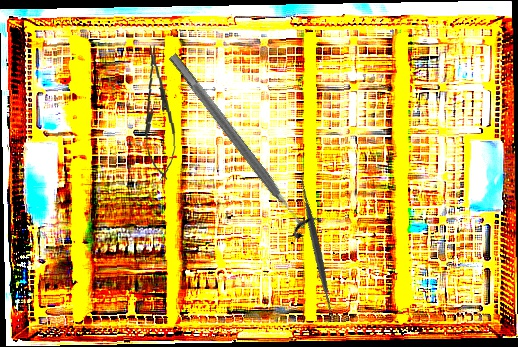Fixation Ring: (159, 45, 323, 241)
Needle Holder: (136, 42, 181, 182)
Spatula Surgical: (239, 171, 394, 326)
